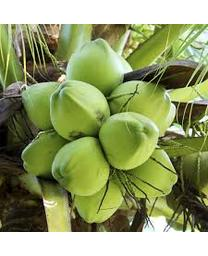coconut: (68, 39, 135, 102), (107, 81, 175, 140), (49, 79, 112, 142), (98, 110, 160, 171), (51, 136, 110, 196), (117, 139, 177, 198), (70, 168, 126, 223), (19, 82, 69, 134)
